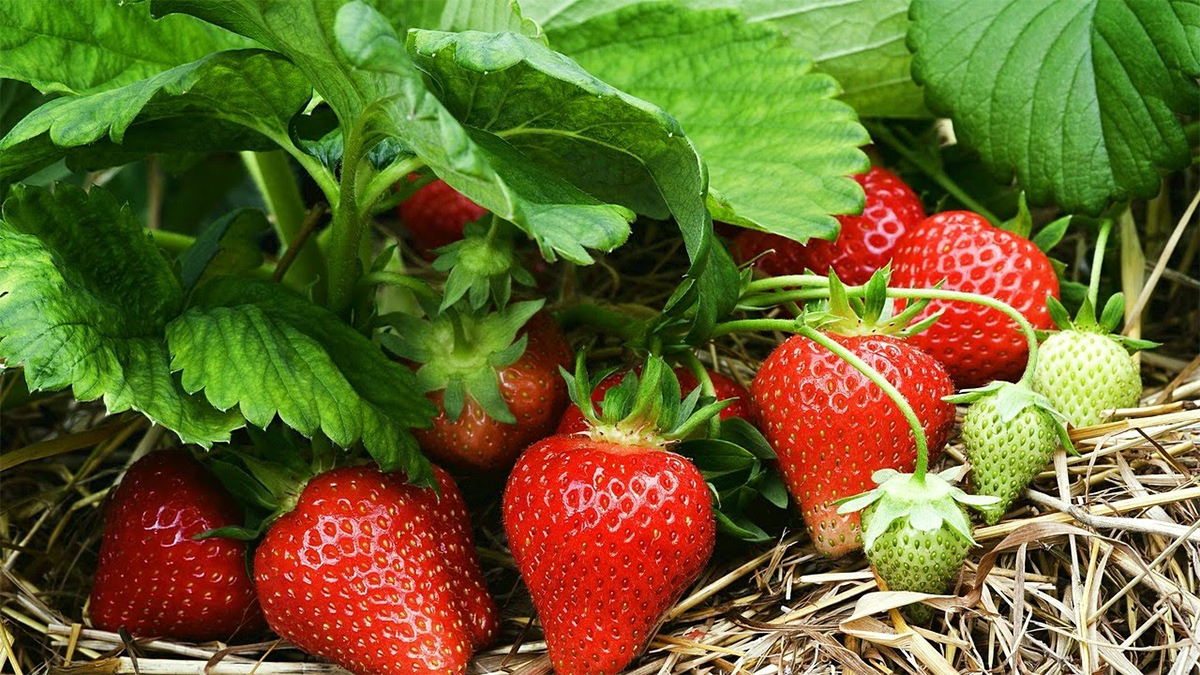ripe_strawberry: (245, 446, 502, 675), (500, 417, 723, 675), (746, 319, 959, 563), (86, 442, 271, 646), (377, 294, 579, 477), (878, 208, 1065, 387), (725, 163, 931, 296), (555, 359, 761, 451), (395, 164, 497, 258)
unripe_strawberry: (957, 372, 1061, 528), (854, 470, 976, 597), (1029, 324, 1147, 429)
